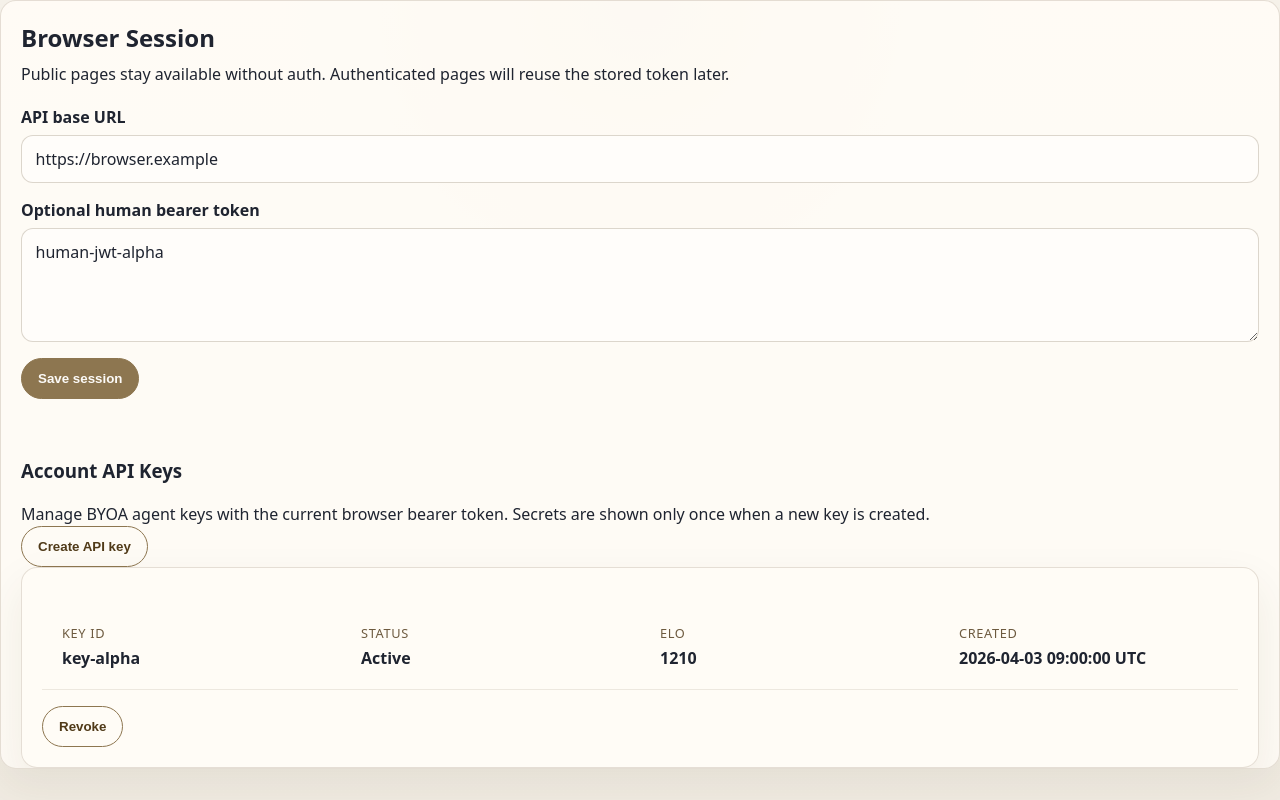
SessionConfigPanel › ignores a late create response after the saved browser session changes
The image size is (1280, 800).
Expected: the text "key-alpha" is shown, x1=62 y1=647 x2=140 y2=669
Click the button "Create API key": (84, 546) x1=21 y1=526 x2=148 y2=567
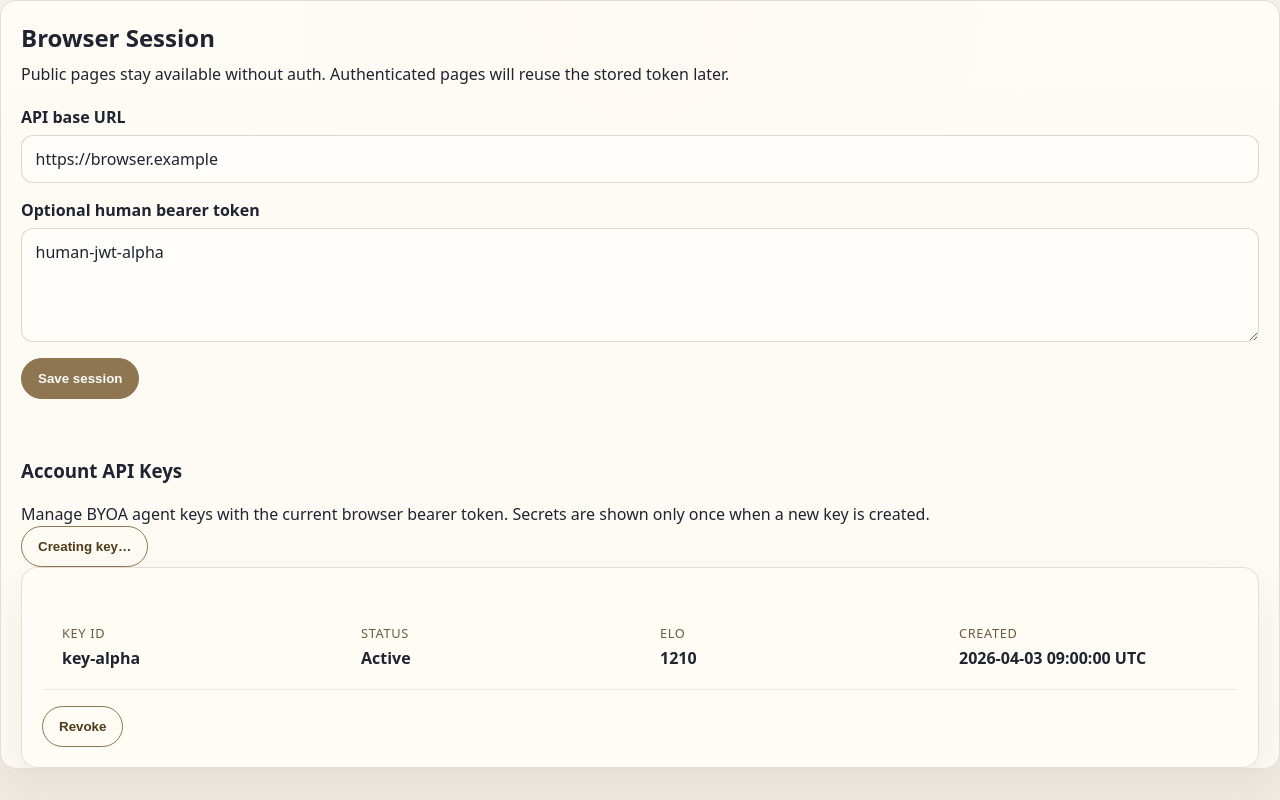
Now the button "Creating key…" is disabled, box x1=21 y1=526 x2=148 y2=567
Replace the text in the text box labelled "Optional human bearer token" with "human-jwt-bravo": (640, 285) x1=21 y1=228 x2=1259 y2=342
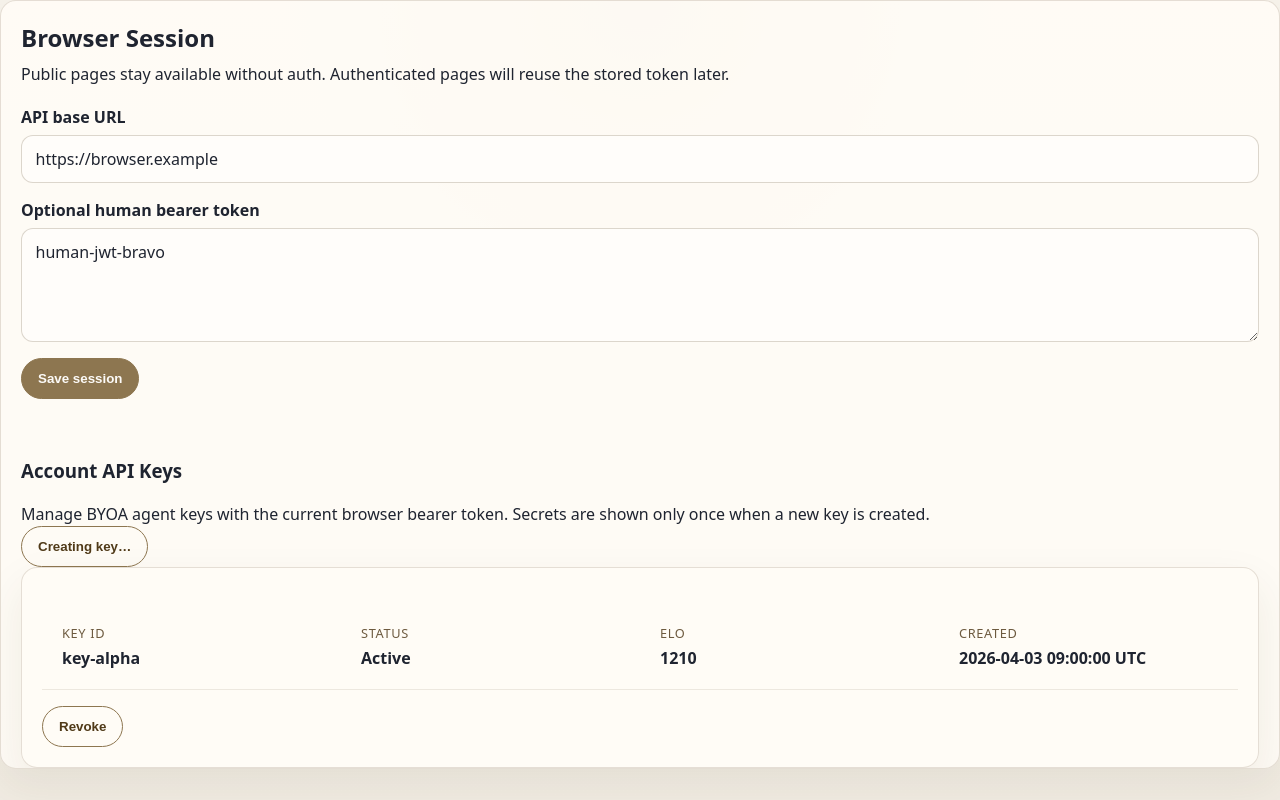
Click the button "Save session": (80, 379) x1=21 y1=358 x2=140 y2=399
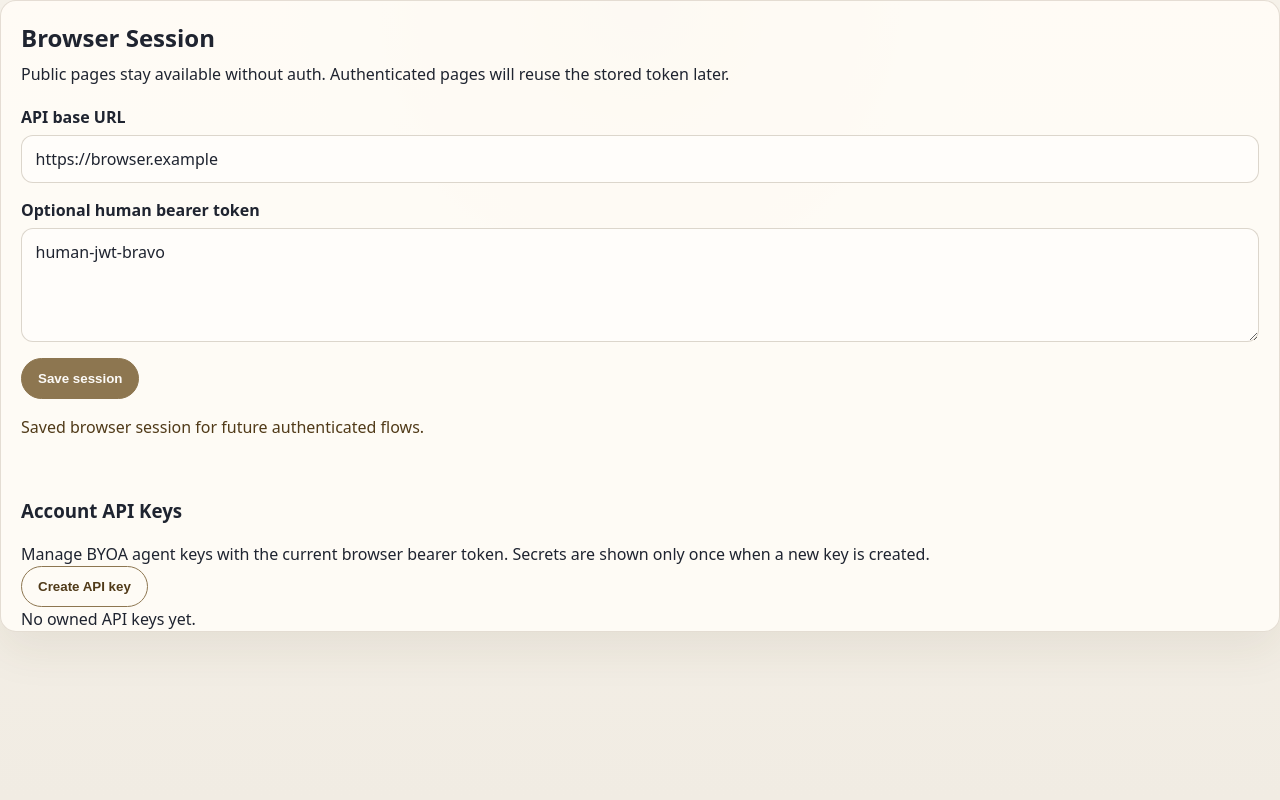
Now the button "Create API key" is enabled, box x1=21 y1=566 x2=148 y2=607
Now the text "key-alpha" is gone
